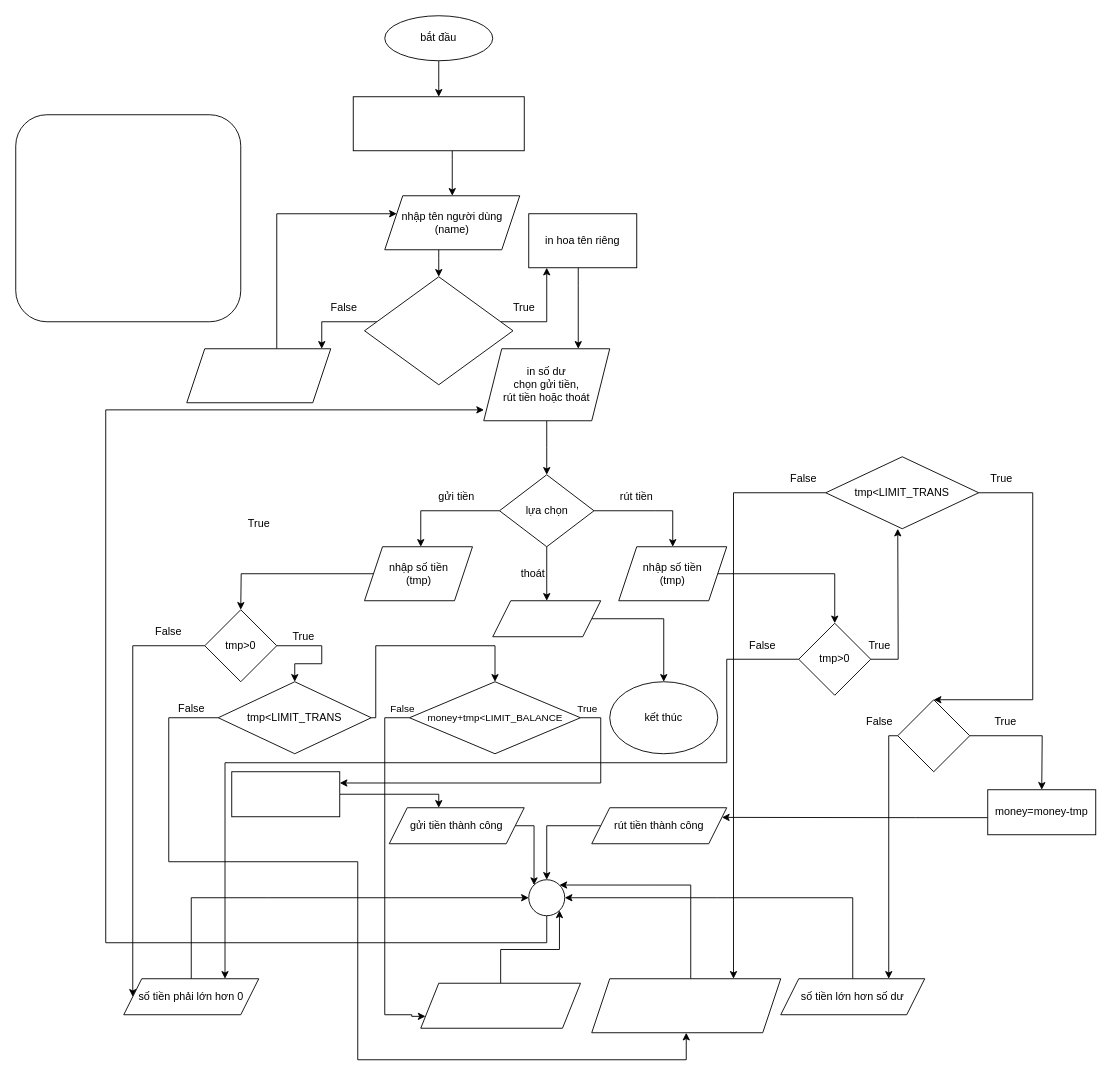
Some shapes in this 1112 by 1083 pixel diagram are drawn without their labels. Here are the shapes that lost their labels. From the top down, the box of each, then its label:
(352, 96, 524, 151): MAX=100 LIMIT_TRANS=2000000000 LIMIT_BALANCE=10000000000 money=0
(15, 114, 241, 322): input: tmp process: money=money+tmp money=money-tmp output: money
(364, 276, 513, 385): name trong khoảng [A-Za-z]
(186, 348, 331, 403): yêu cầu nhập lại tên (name)
(492, 600, 601, 637): see you later
(897, 699, 970, 772): money>tmp
(231, 771, 340, 817): money=money+tmp
(420, 982, 580, 1028): số dư của bạn vượt quá mức gửi quy định
(591, 978, 781, 1033): số tiền không được quá mức quy định trong 1 lần giao dịch
